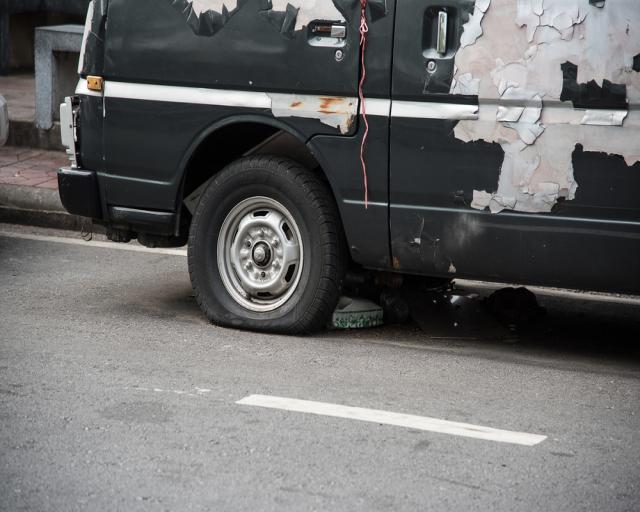tire flat: (187, 156, 347, 335)
